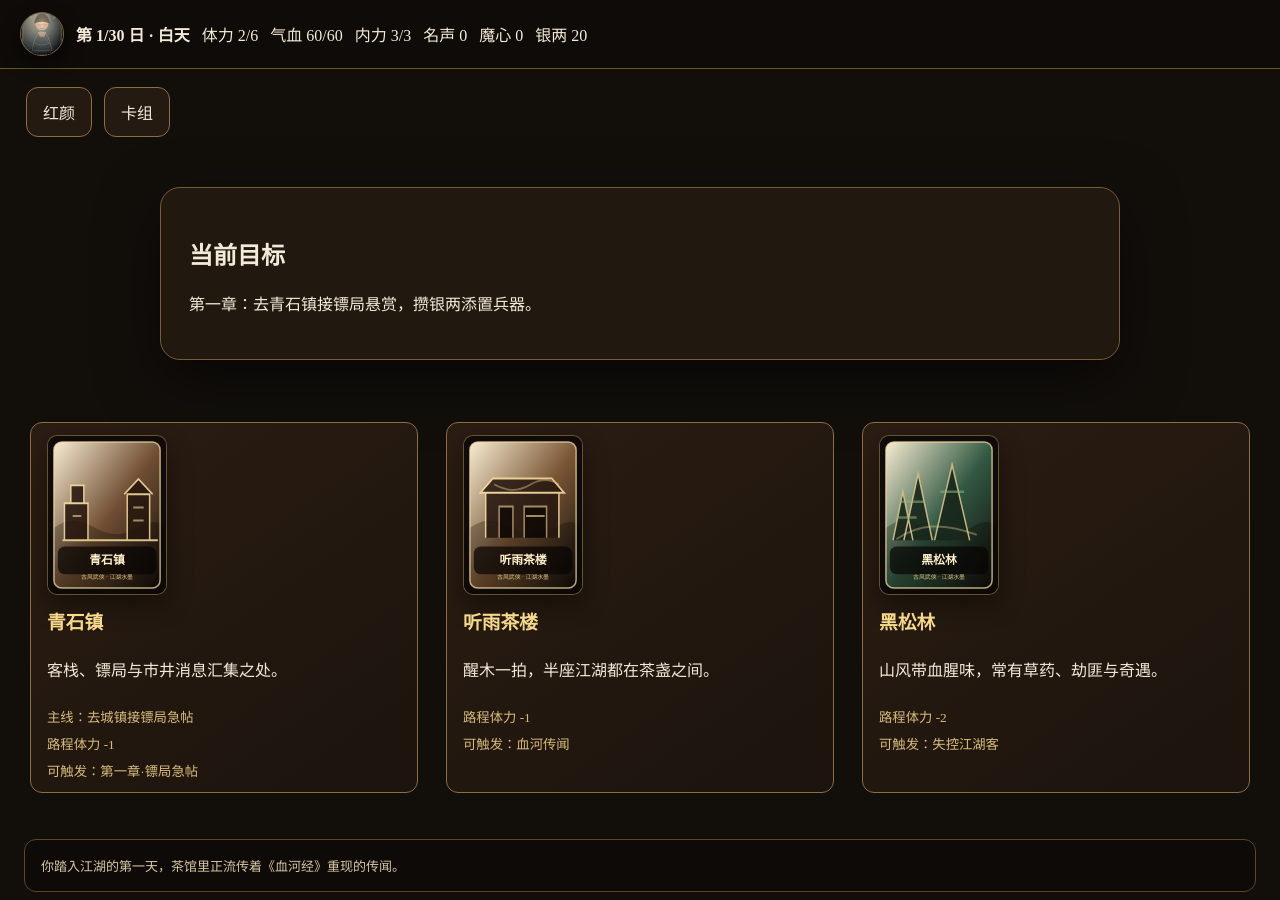
route UI presentation › automatically advances the phase instead of entering an event when travel drains all stamina
Click the button "黑松林 山风带血腥味，常有草药、劫匪与奇遇。 路程体力 -2 可触发：失控江湖客": {"x": 939, "y": 515} [862, 422, 1250, 793]
(page scrolled)
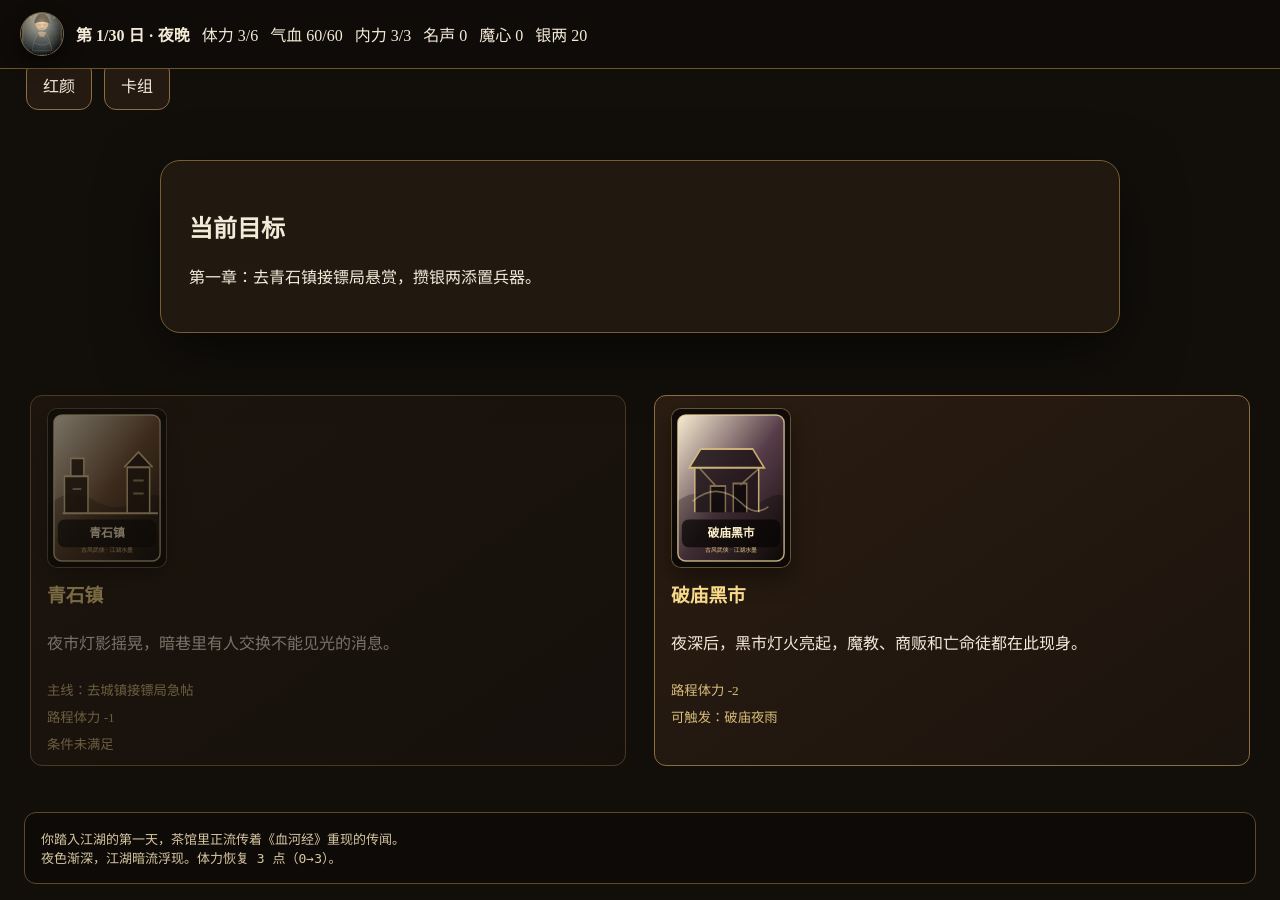
expect the text "第 1/30 日 · 夜晚" is shown: met, box [76, 22, 190, 46]
expect the text "你踏入江湖的第一天，茶馆里正流传着《血河经》重现的传闻。 夜色渐深，江湖暗流浮现。体力恢复 3 点（0→3）。" is shown: met, box [24, 812, 1256, 884]
